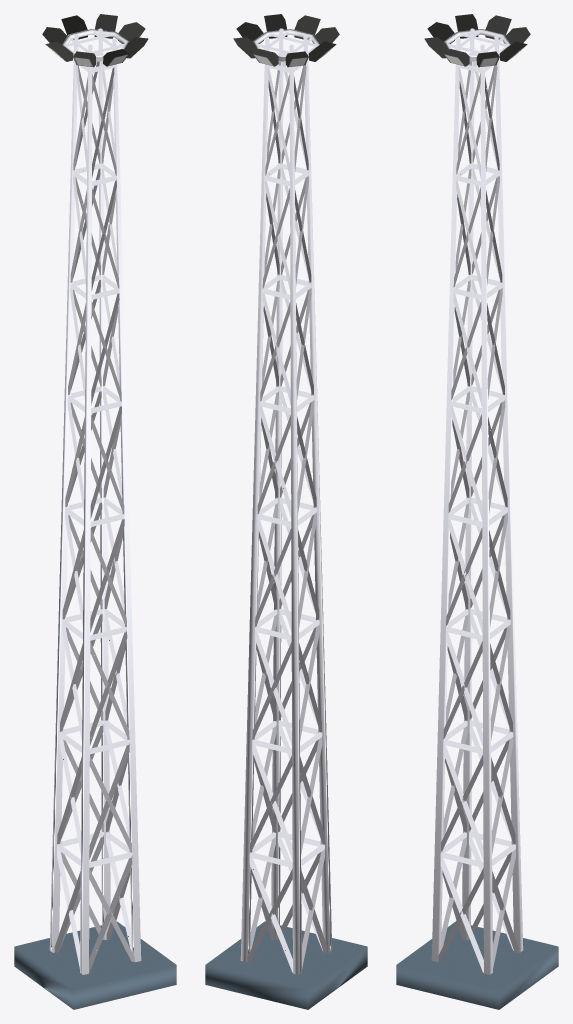
The picture shows the model from 3 angles, left to right: view 1: azimuth 30°, elevation 25°; view 2: azimuth 150°, elevation 25°; view 3: azimuth 330°, elevation 25°; orthographic projection.
Parts seen in each view (by area): view 1: Material__389; view 2: Material__389; view 3: Material__389.
Boxes of the visible parts, bbox=[...] form: Material__389: bbox=[14, 14, 176, 1009]; Material__389: bbox=[205, 14, 367, 1009]; Material__389: bbox=[396, 14, 558, 1009].
Size of the model in its own units: 7 by 61.05 by 7.
